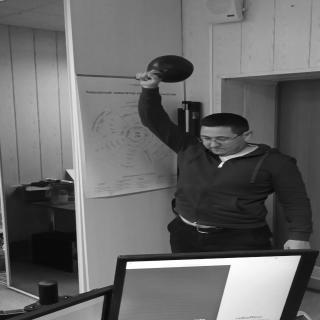kettlebell: (141, 56, 196, 84)
